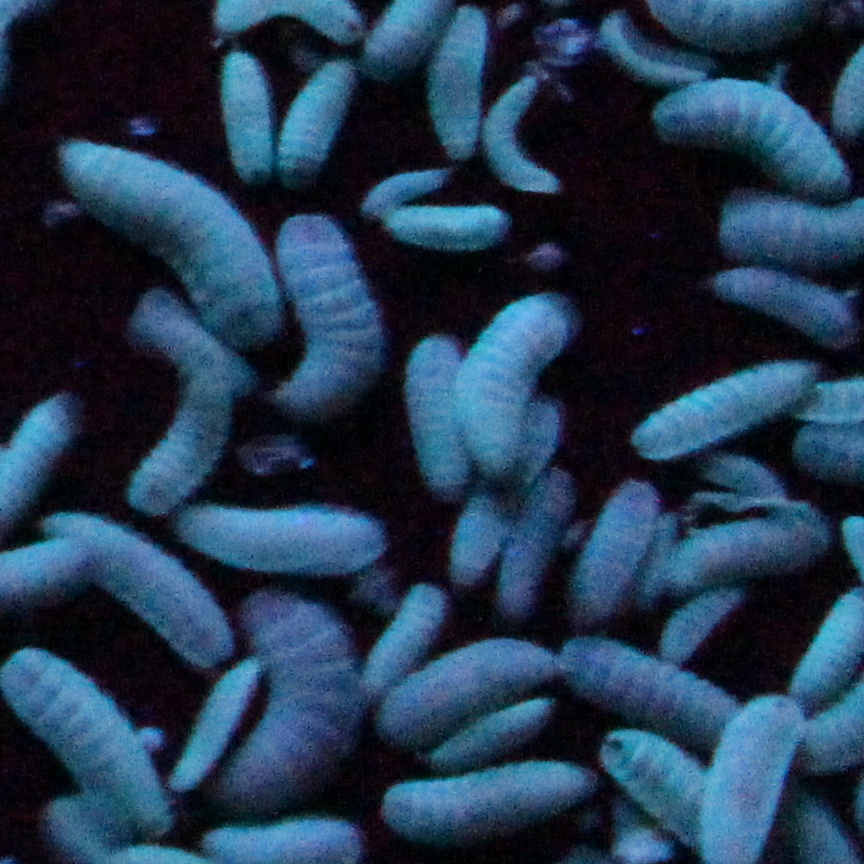larve: (62, 137, 302, 347), (212, 580, 377, 807), (2, 642, 179, 835), (644, 67, 854, 200), (47, 522, 227, 670), (269, 205, 377, 412), (587, 730, 752, 862), (459, 287, 572, 472), (129, 340, 234, 520), (369, 752, 587, 835), (177, 497, 389, 577), (654, 357, 804, 467), (384, 642, 564, 730), (567, 635, 757, 712), (174, 652, 254, 792), (669, 522, 822, 595), (409, 340, 479, 497), (479, 80, 569, 202), (582, 465, 654, 617), (212, 50, 282, 192), (722, 260, 847, 335), (447, 455, 517, 575), (779, 585, 854, 697), (292, 55, 354, 190), (727, 205, 862, 265), (389, 200, 514, 260), (382, 572, 444, 692), (367, 150, 439, 217)
